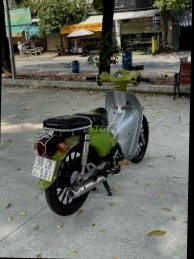Bien-so: (28, 155, 57, 186)
